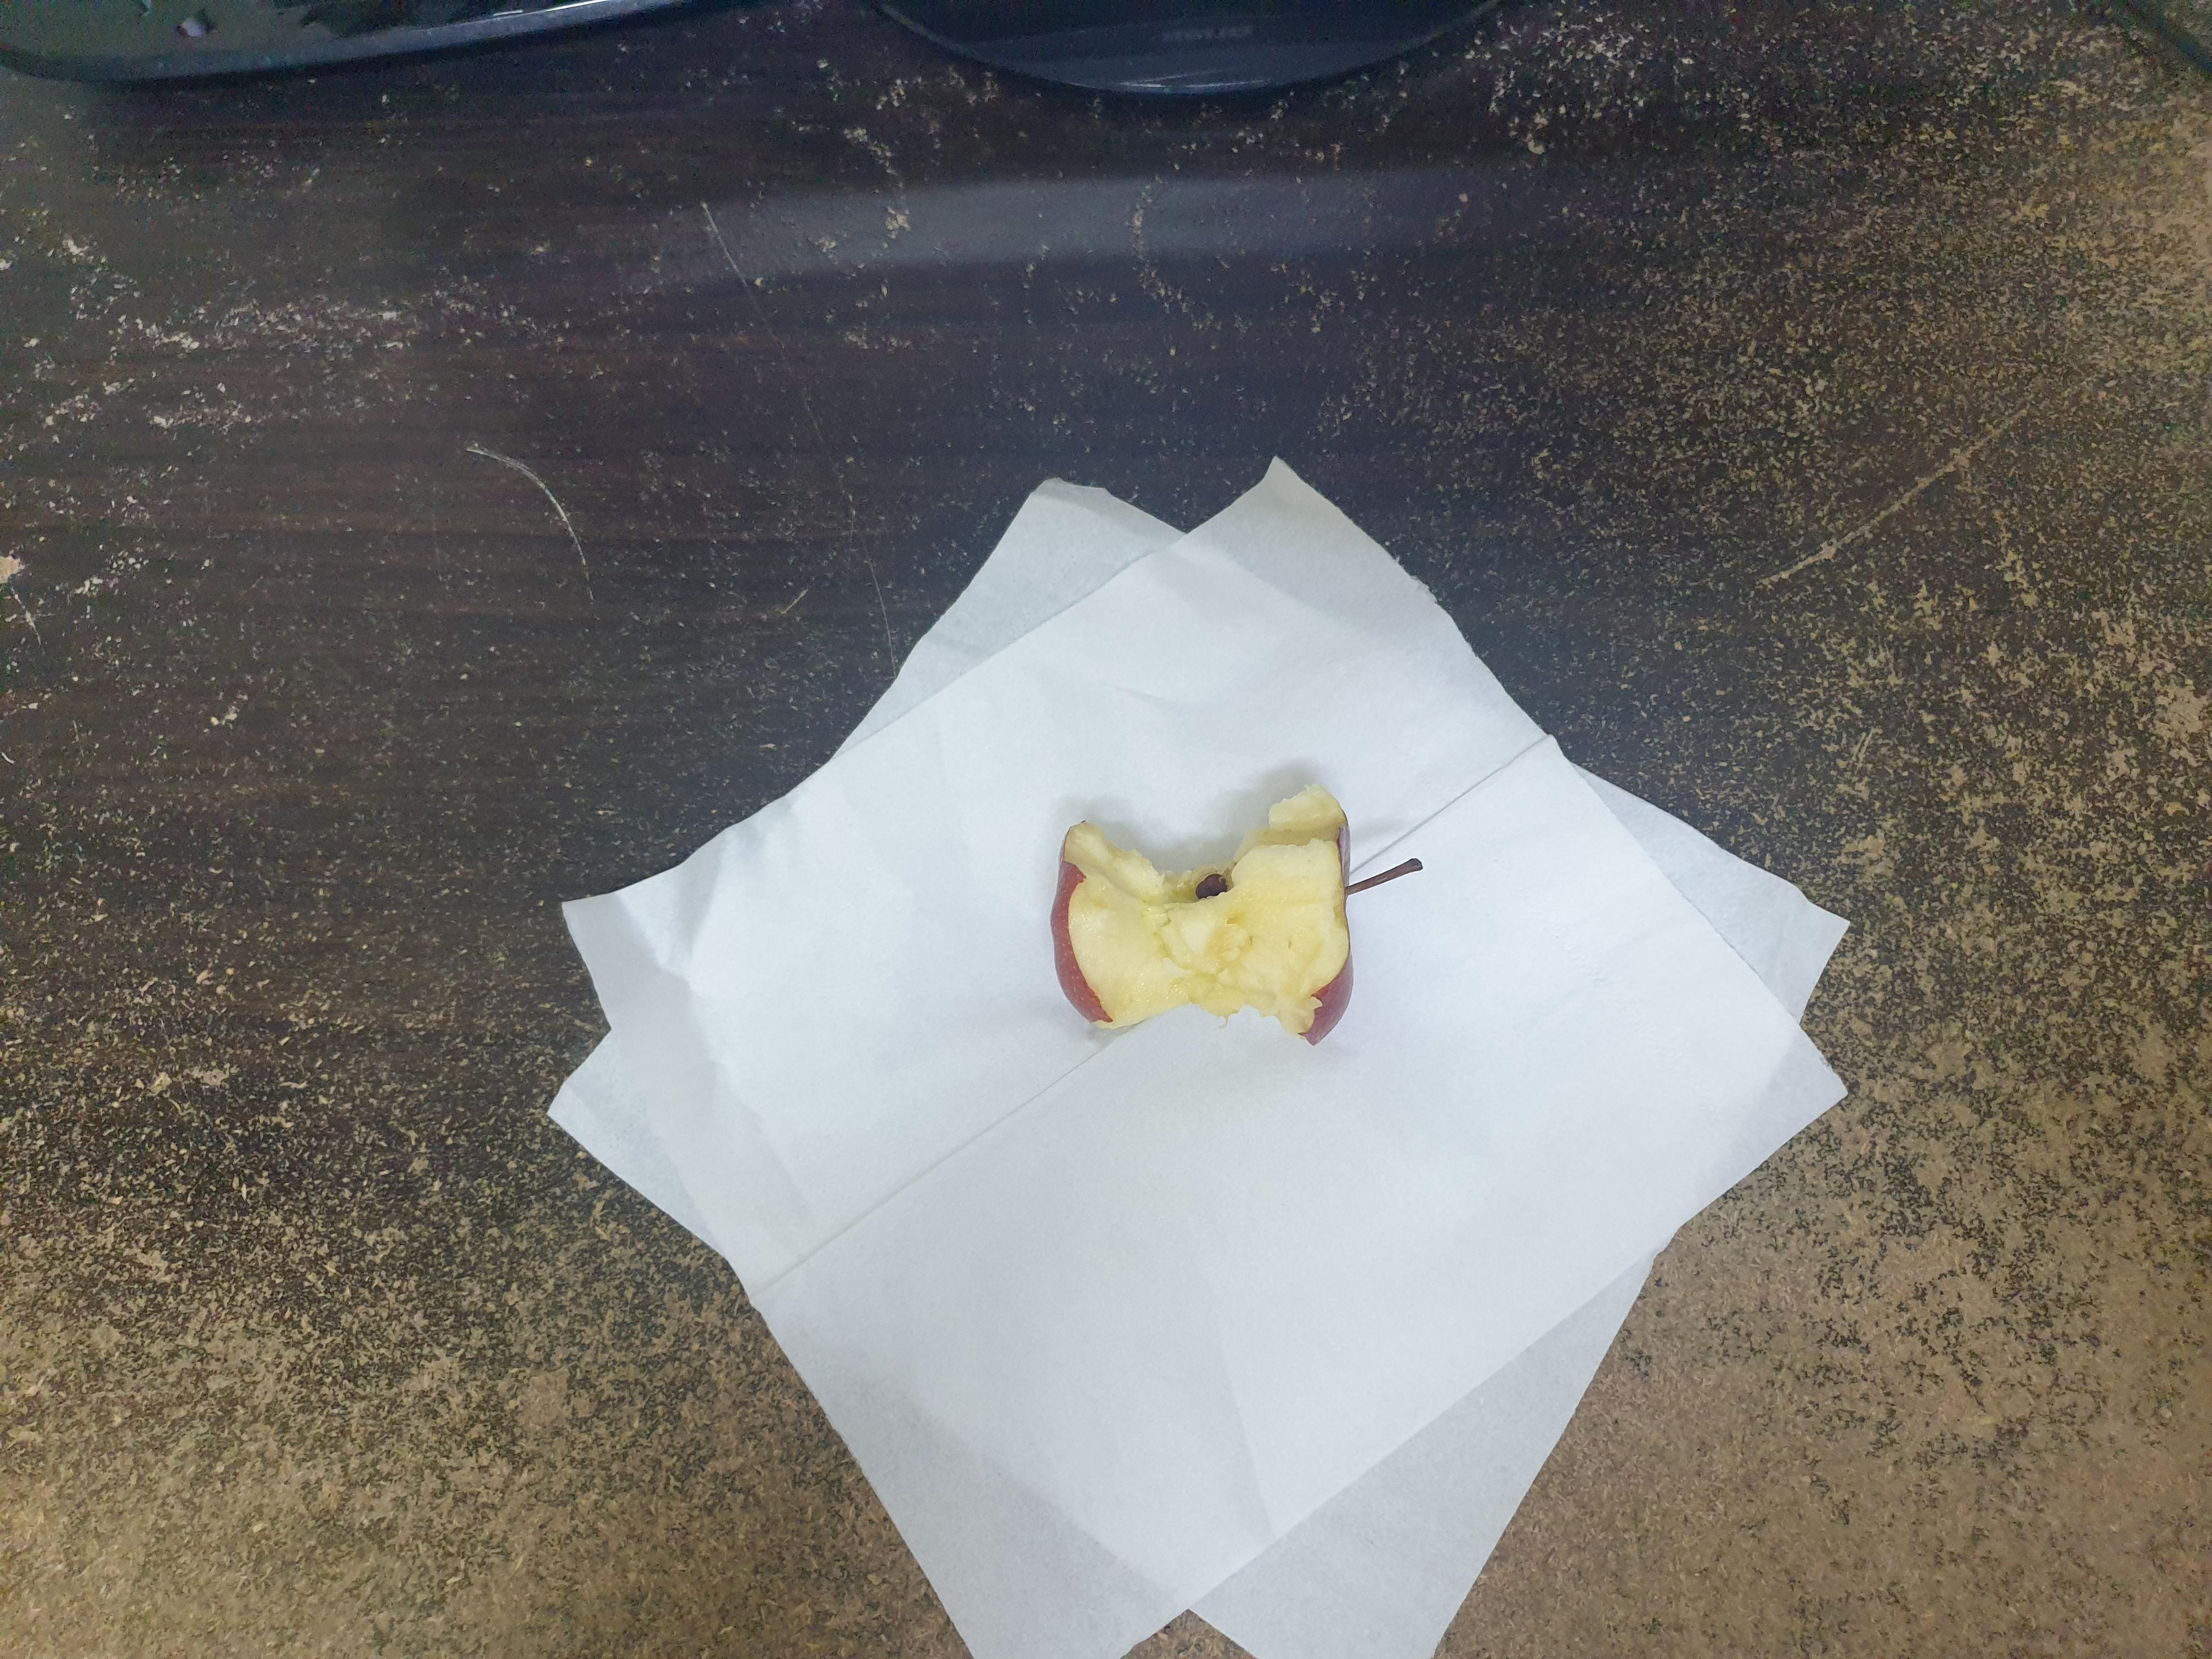Apple: (982, 777, 1486, 1070)
